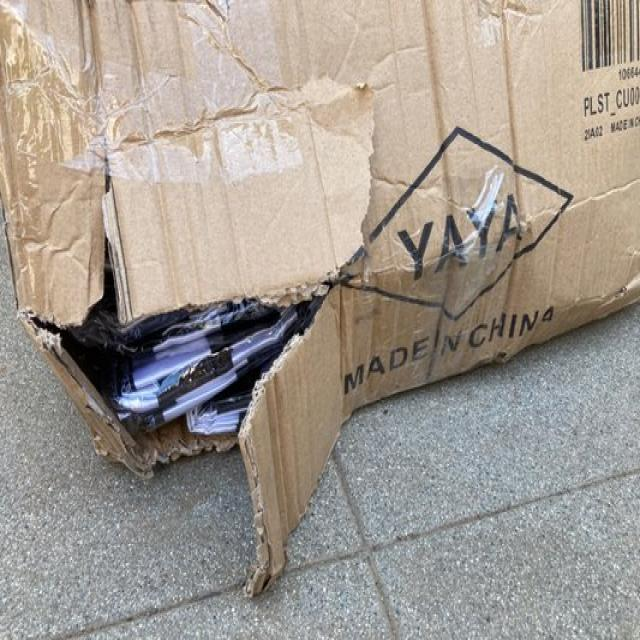damaged: (48, 257, 344, 503)
